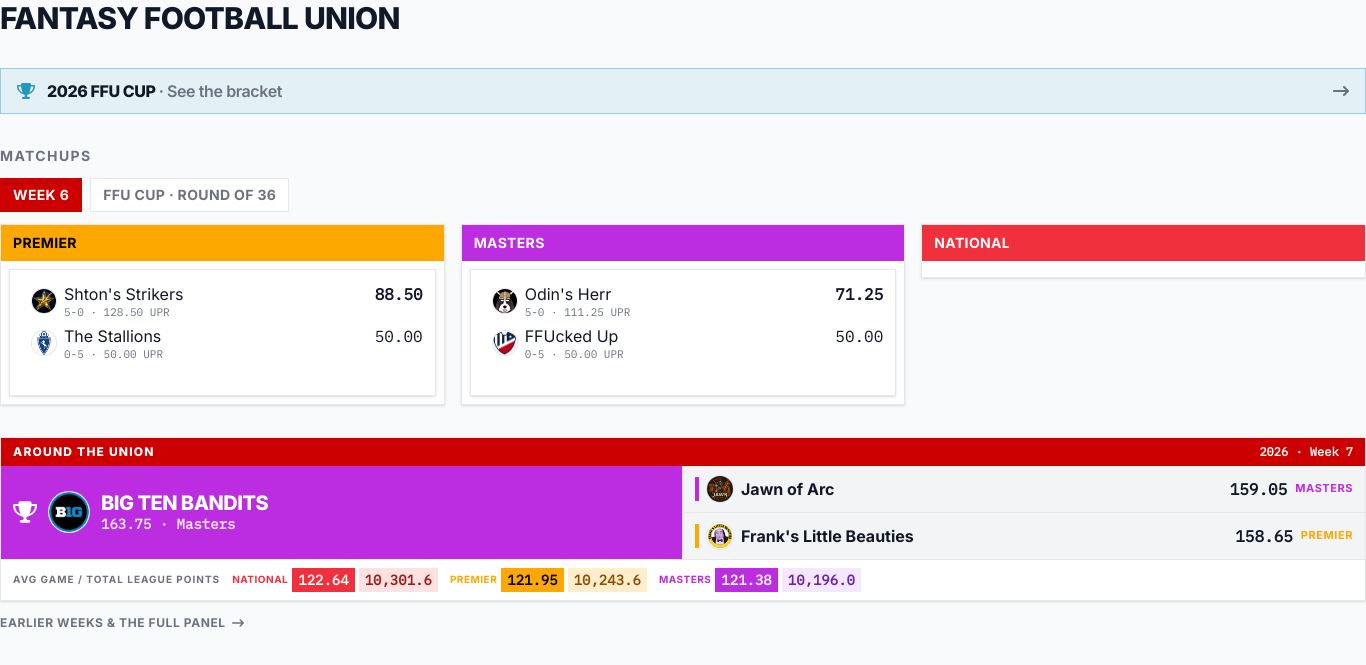
Test case: offers the Cup round's matchups beside the league week, scored live across the leagues
Click the tab "FFU Cup · Round of 36" at (190, 195), box [90, 178, 289, 212]
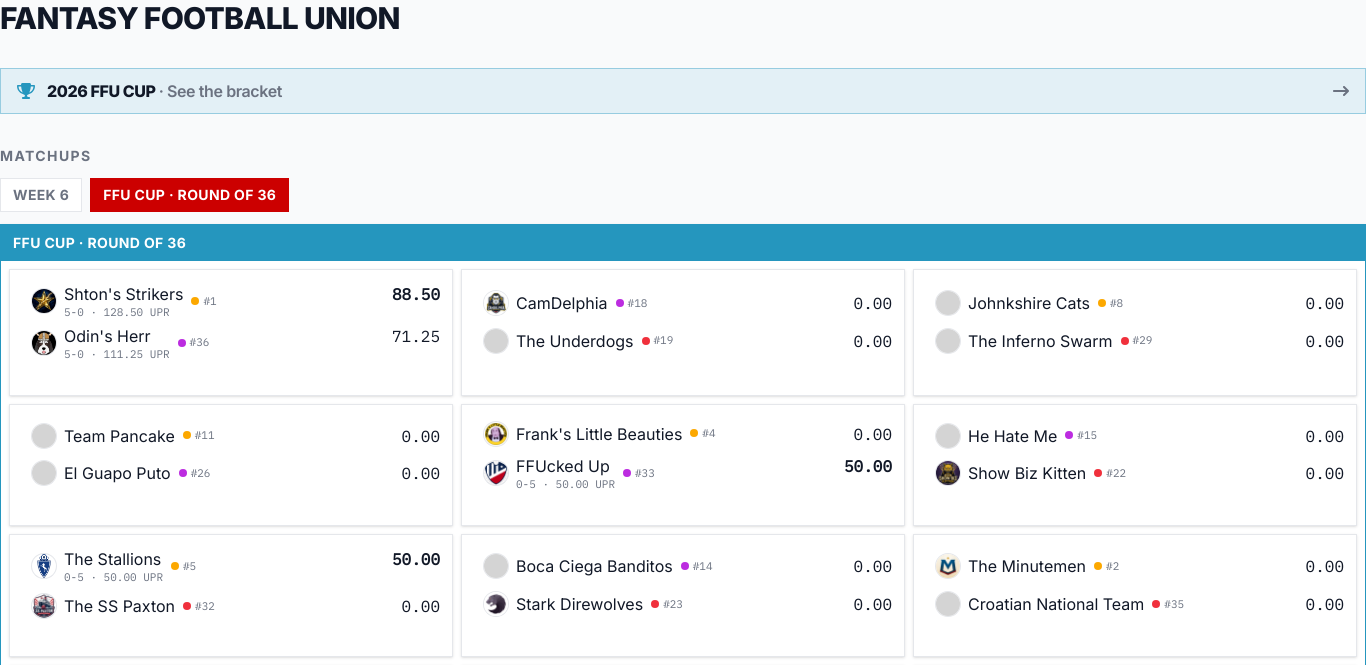
Check: the heading "FFU Cup · Round of 36" is shown, box [1, 225, 1365, 261]
Check: the number of buttons named "lineups" is 18
Check: the button with aria-label "lineups" shows "88.50"
Click the button with aria-label "lineups" at (124, 294), box [9, 269, 453, 396]
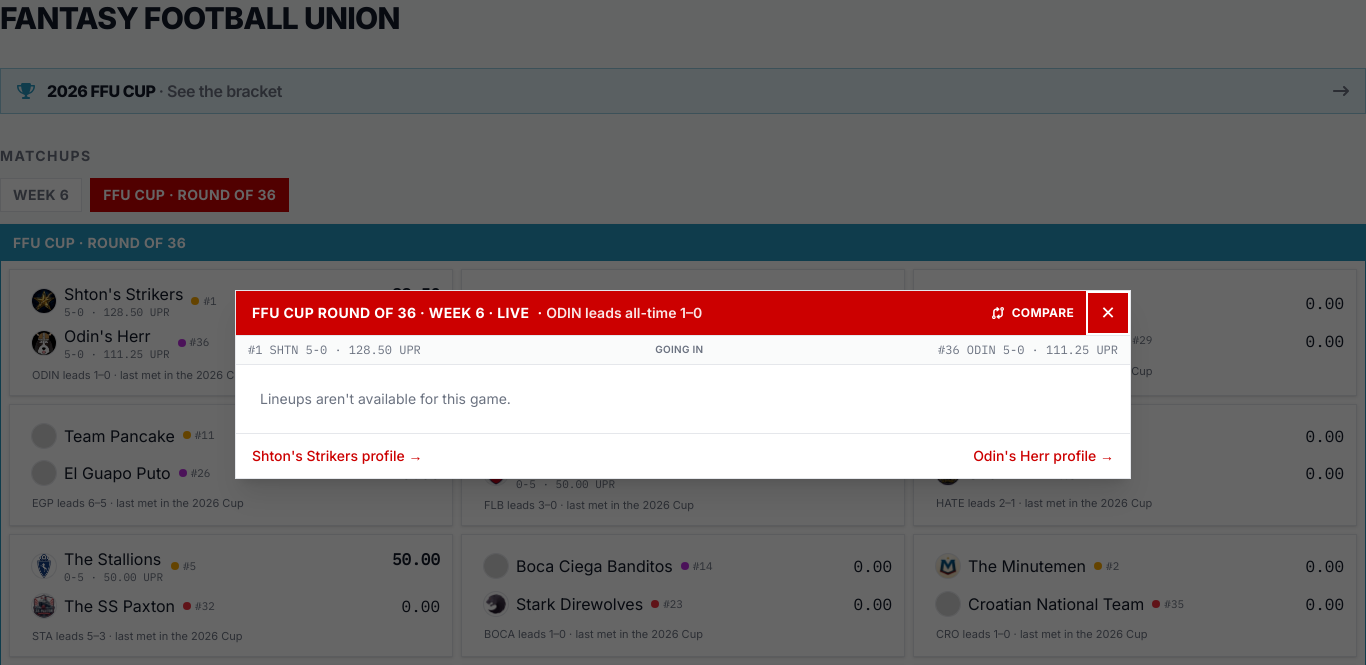
Check: the text "#1 SHTN 5-0 · 128.50 UPR" is shown, box [248, 342, 421, 358]
Check: the text "#36 ODIN 5-0 · 111.25 UPR" is shown, box [938, 342, 1118, 358]
